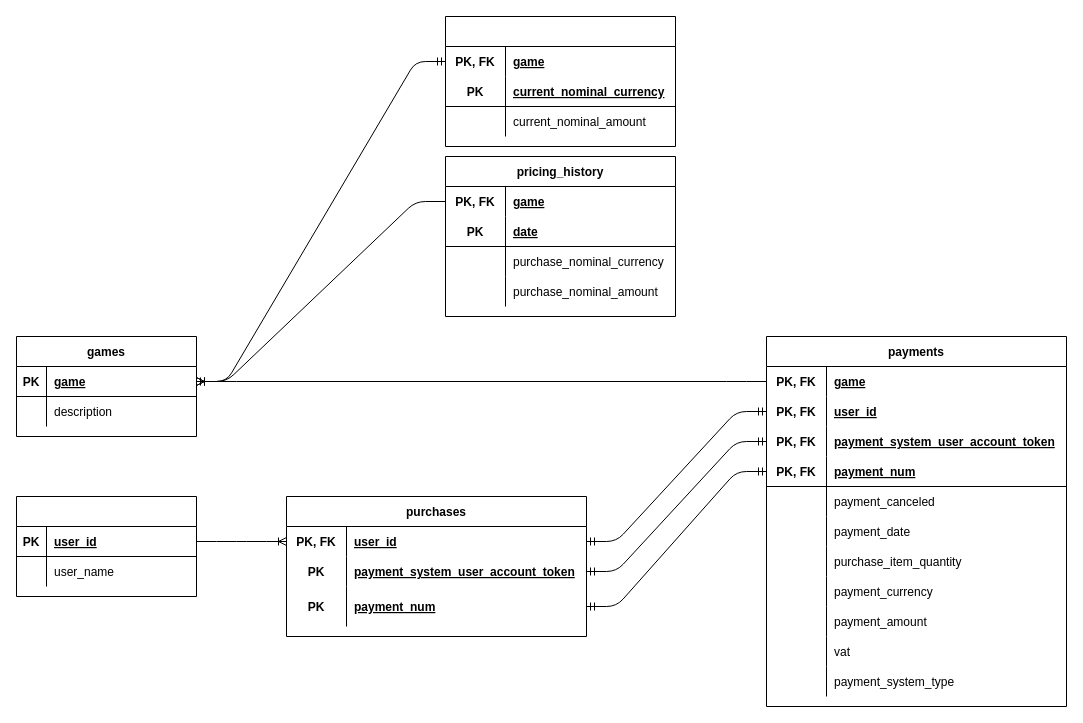
The diagram is 1083 pixels wide and 723 high, and some of its shapes have lost their labels. Each missing label, with the box of its shape:
current_prices: (444, 16, 676, 146)
users: (16, 496, 196, 596)
